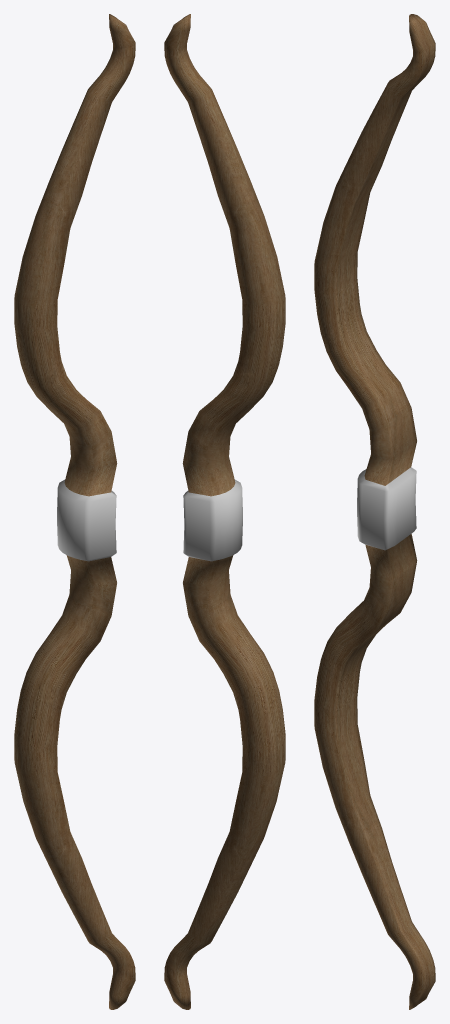
File: Bow_V02.fbx
3 renders of one model, left to right at view 1: azimuth 30°, elevation 25°; view 2: azimuth 150°, elevation 25°; view 3: azimuth 330°, elevation 25°, orthographic.
Parts seen in each view (by area): view 1: Bow_V02_E; view 2: Bow_V02_E; view 3: Bow_V02_E.
Boxes of the visible parts, box(x1,y1,x2,y2) form: Bow_V02_E: box(14, 14, 135, 1009); Bow_V02_E: box(164, 14, 285, 1009); Bow_V02_E: box(314, 14, 435, 1009).
Bounding box in the file's own units: 10.96 × 92.72 × 5.04.
